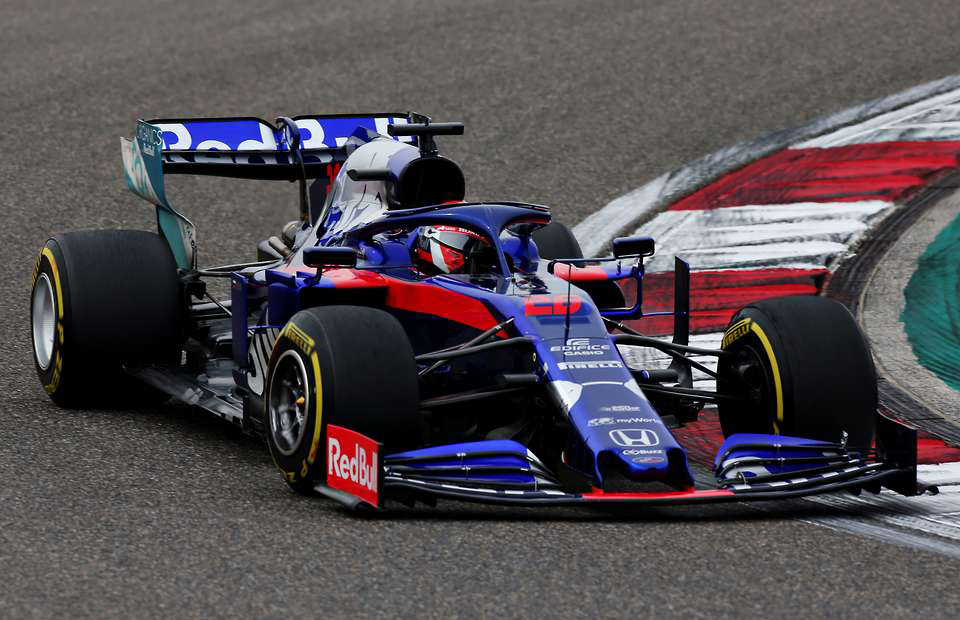F1 Car: (20, 105, 948, 530)
